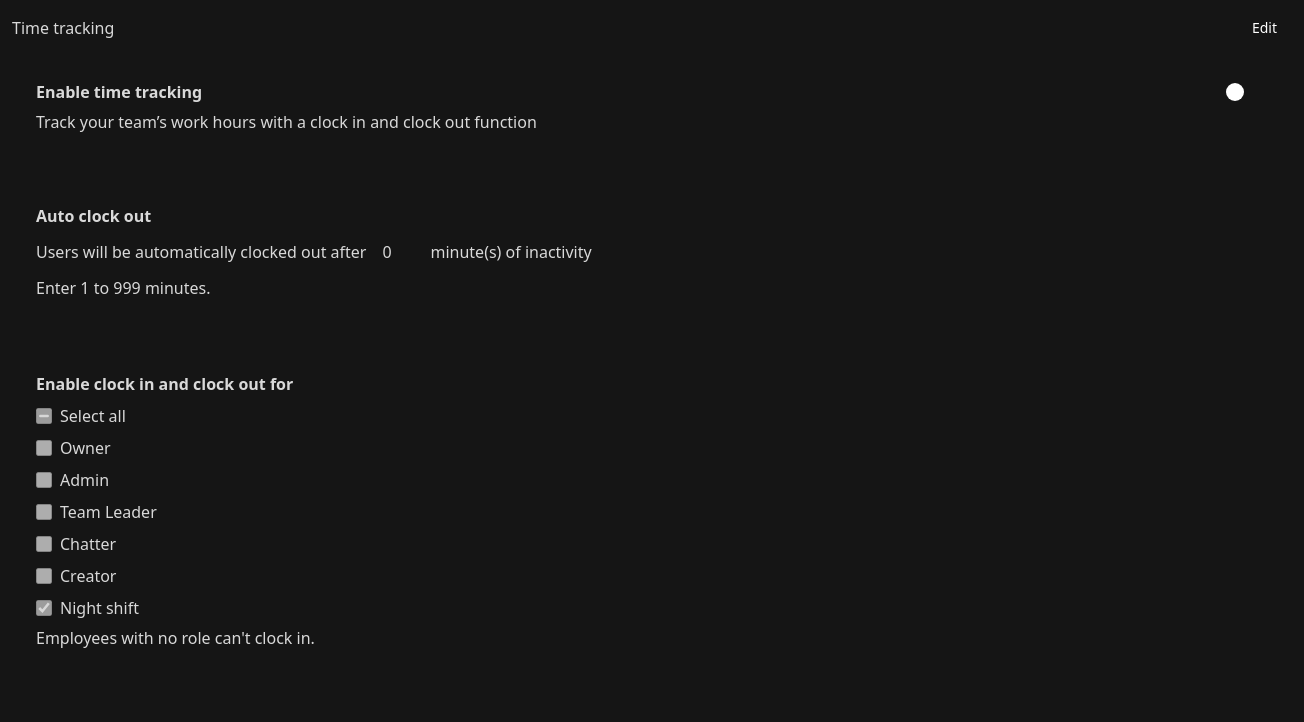
it: TimeTrackingTab › a stored minutes value of 0 shows the error and Edit opens with Save disabled
This screenshot has width=1304, height=722.
Expected: the number field named "Auto clock out time" holds "0", x1=374 y1=236 x2=422 y2=268
Expected: the message reads "Enter 1 to 999 minutes.", x1=36 y1=277 x2=210 y2=299
Click the button "Edit" at (1264, 28), box x1=1237 y1=12 x2=1292 y2=44
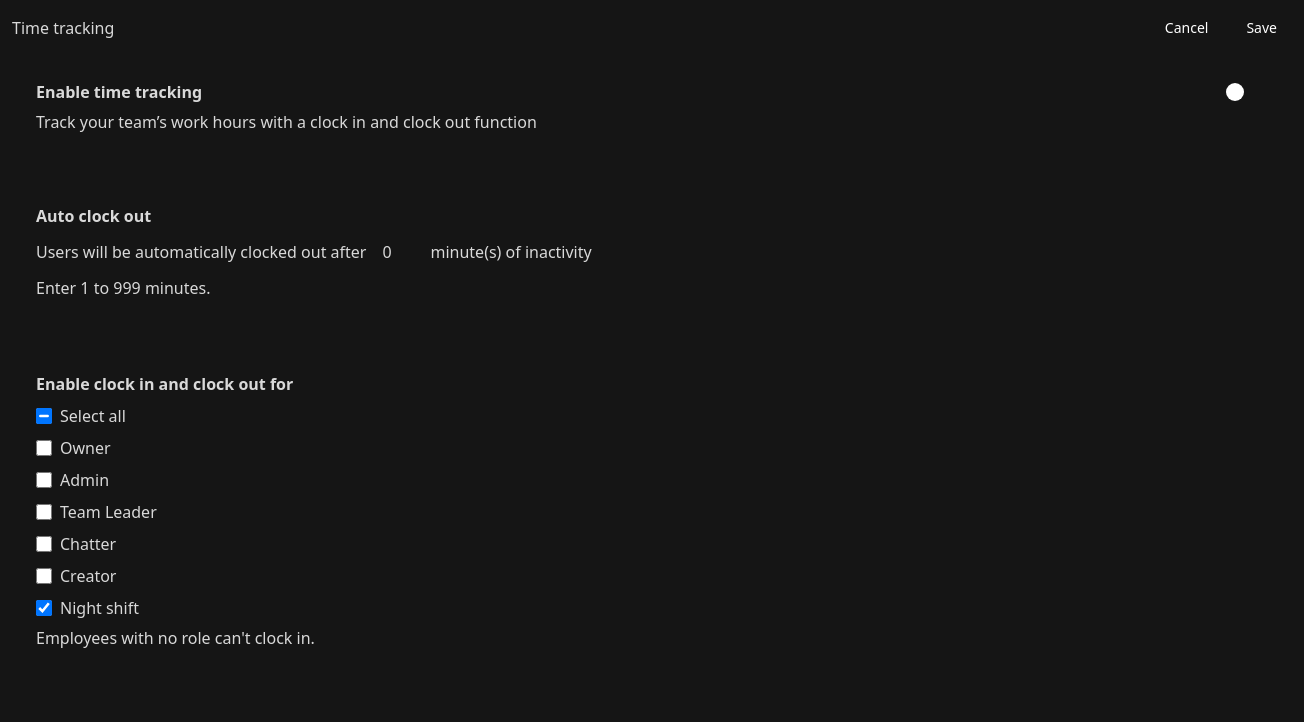
Now the button "Save" is disabled, box x1=1231 y1=12 x2=1292 y2=44
